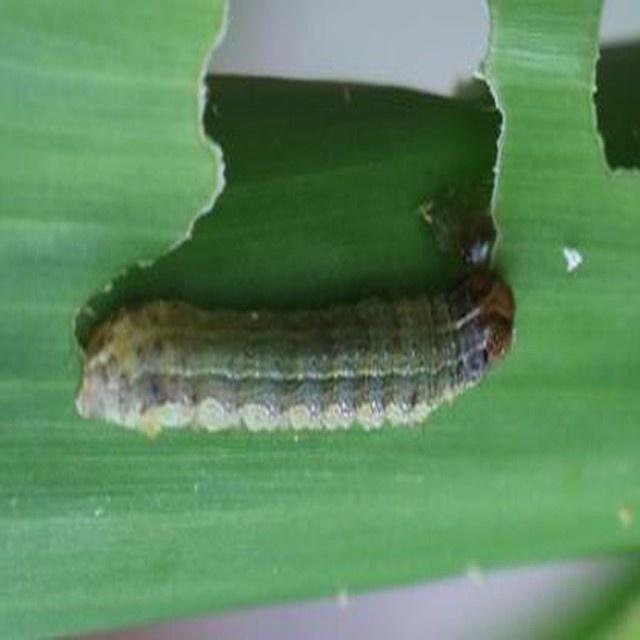gusano_cogollero: (74, 279, 519, 427)
